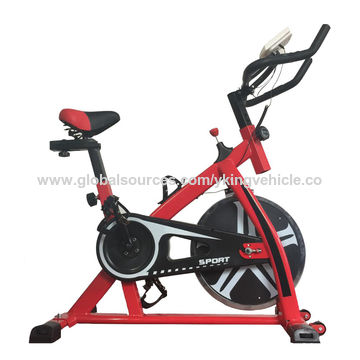gym_bike: (24, 30, 343, 343)
